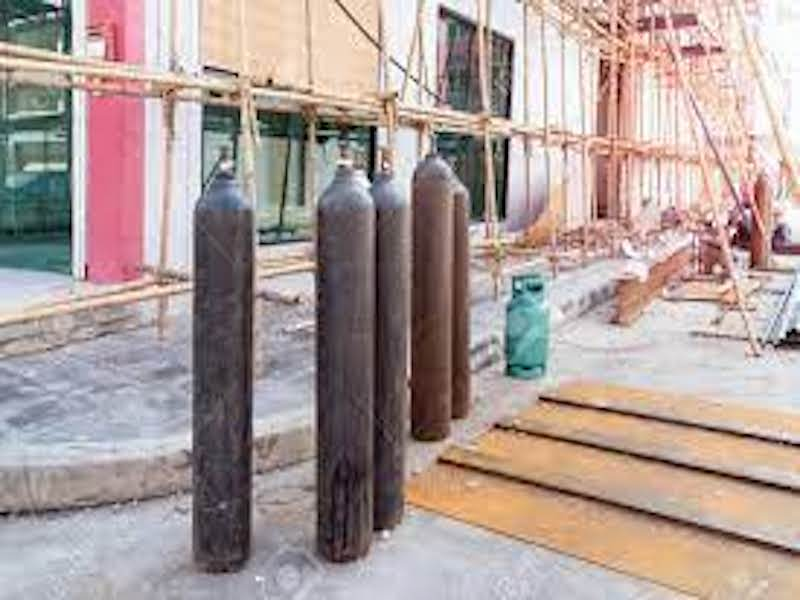combustible: (195, 145, 480, 565)
